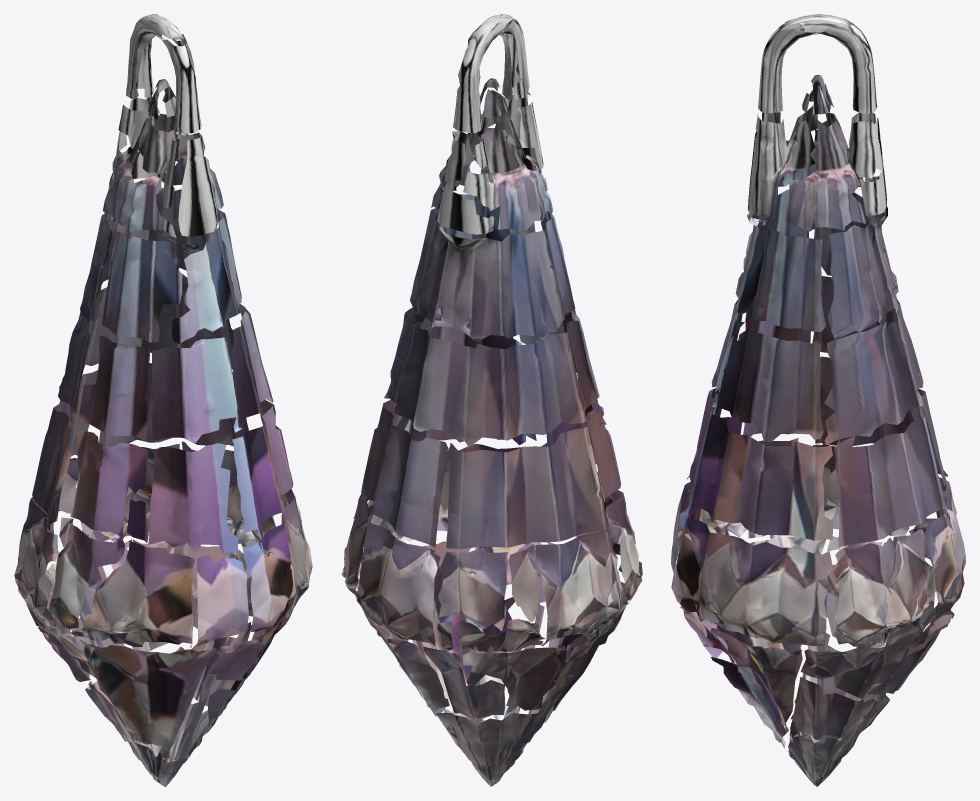
Rendered from crystal_1.glb.
3 renders of one model, left to right at view 1: azimuth 30°, elevation 25°; view 2: azimuth 150°, elevation 25°; view 3: azimuth 270°, elevation 25°, orthographic.
Visible parts, largest first — view 1: crystal; view 2: crystal; view 3: crystal.
Part boxes in pixels (<box>): crystal: <box>14,14,312,786</box>; crystal: <box>341,14,642,786</box>; crystal: <box>671,14,965,786</box>.
Size of the model in its own units: 0.341 by 0.9803 by 0.3399.
Materials: 1 (1 with a texture image).
